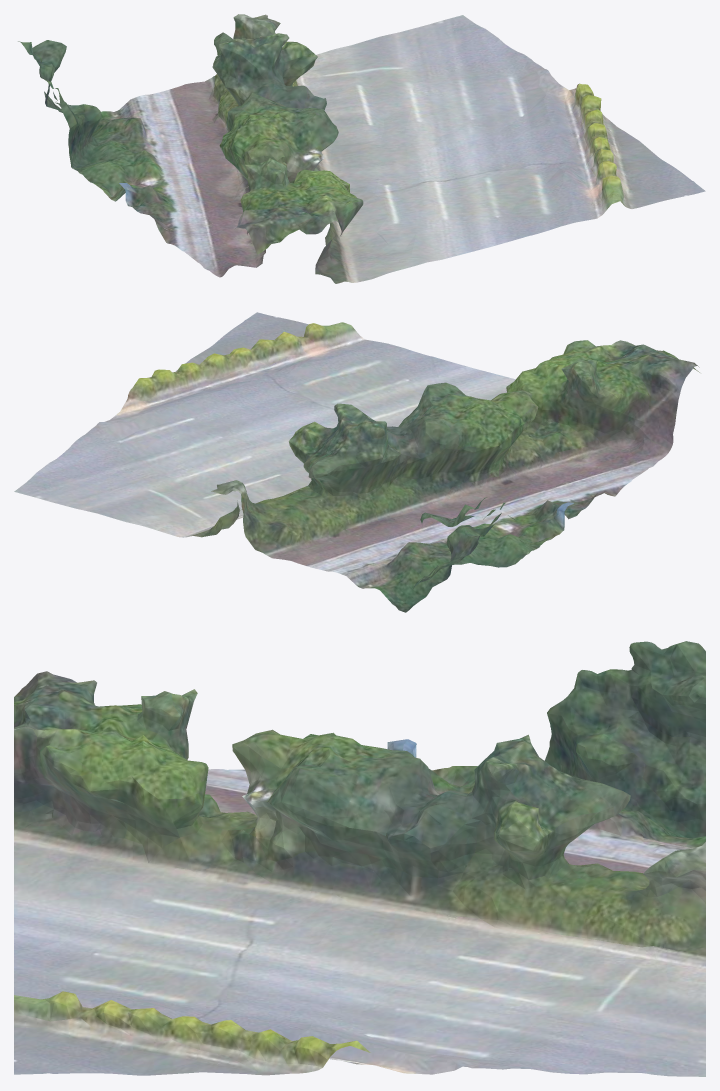
Rendered from Tile__002__008_L21_0002100.glb.
3 views of the same model, one above another, from view 1: azimuth 30°, elevation 25°; view 2: azimuth 150°, elevation 25°; view 3: azimuth 270°, elevation 25° (orthographic). The views are drawn at different scales.
Visible parts, largest first — view 1: root; view 2: root; view 3: root.
Boxes of the visible parts, x1,y1,x2,y2 form: root: [18, 14, 705, 283]; root: [14, 312, 699, 612]; root: [14, 641, 705, 1076].
Size of the model in its own units: 25.13 by 6.46 by 23.56.
Materials: 1 (1 with a texture image).
